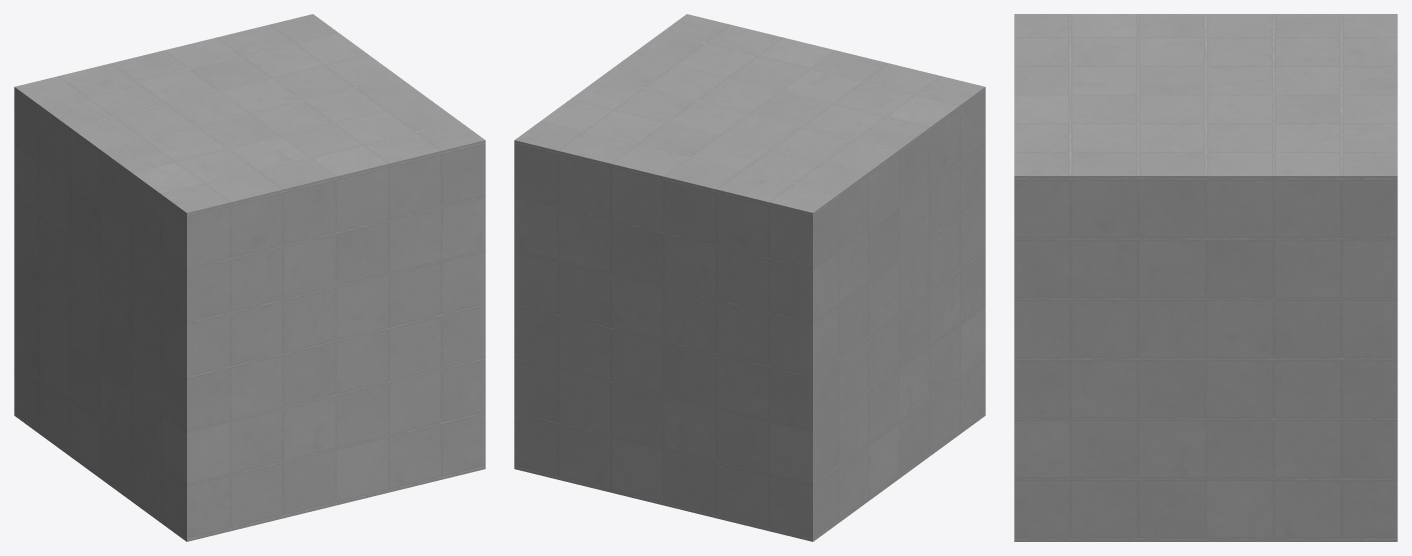
The model's file is SM_floor.glb.
The picture shows the model from 3 angles, left to right: view 1: azimuth 30°, elevation 25°; view 2: azimuth 150°, elevation 25°; view 3: azimuth 270°, elevation 25°; orthographic projection. The views are drawn at different scales.
Parts seen in each view (by area): view 1: SM_floor; view 2: SM_floor; view 3: SM_floor.
Boxes of the visible parts, left/top/right/bottom form: SM_floor: left=14, top=14, right=485, bottom=541; SM_floor: left=514, top=14, right=985, bottom=541; SM_floor: left=1014, top=14, right=1397, bottom=541.
Bounding box in the file's own units: 3.8 × 4 × 3.8.
Materials: 1 (1 with a texture image).
